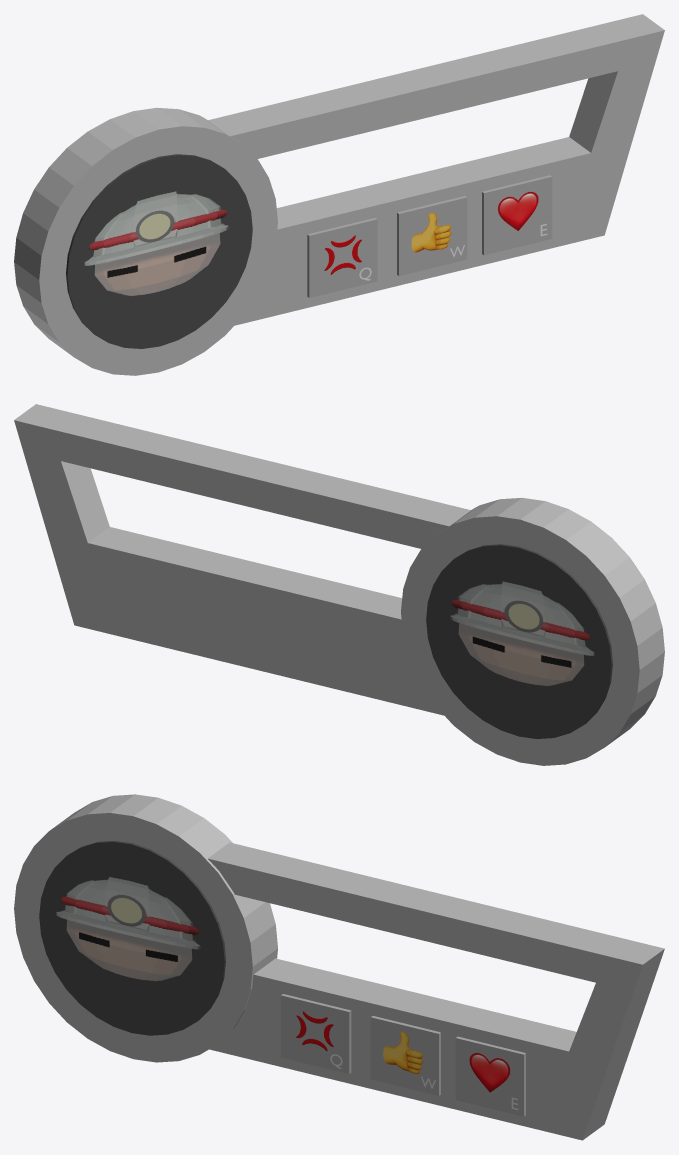
Rendered from life_bar.glb.
3 views of the same model, one above another, from view 1: azimuth 30°, elevation 25°; view 2: azimuth 150°, elevation 25°; view 3: azimuth 330°, elevation 25° (orthographic).
Parts seen in each view (by area): view 1: Cube, Cylinder.001, Cylinder, Cube.001, Cube.003, Cube.002; view 2: Cube, Cylinder.001, Cylinder; view 3: Cube, Cylinder.001, Cylinder, Cube.001, Cube.003, Cube.002.
Part boxes in pixels (left/top/right/bottom): Cube: left=208, top=14, right=664, bottom=325; Cylinder.001: left=66, top=154, right=252, bottom=348; Cylinder: left=14, top=107, right=277, bottom=375; Cube.001: left=482, top=175, right=552, bottom=255; Cube.003: left=397, top=196, right=467, bottom=275; Cube.002: left=307, top=218, right=377, bottom=297; Cube: left=14, top=404, right=470, bottom=715; Cylinder.001: left=426, top=544, right=612, bottom=738; Cylinder: left=401, top=497, right=664, bottom=765; Cube: left=208, top=842, right=664, bottom=1140; Cylinder.001: left=39, top=841, right=225, bottom=1035; Cylinder: left=14, top=794, right=277, bottom=1062; Cube.001: left=455, top=1036, right=525, bottom=1116; Cube.003: left=370, top=1016, right=440, bottom=1095; Cube.002: left=281, top=994, right=351, bottom=1073.
Bounding box in the file's own units: 12.71 × 4.7 × 1.01.
8 materials, 4 textured.
